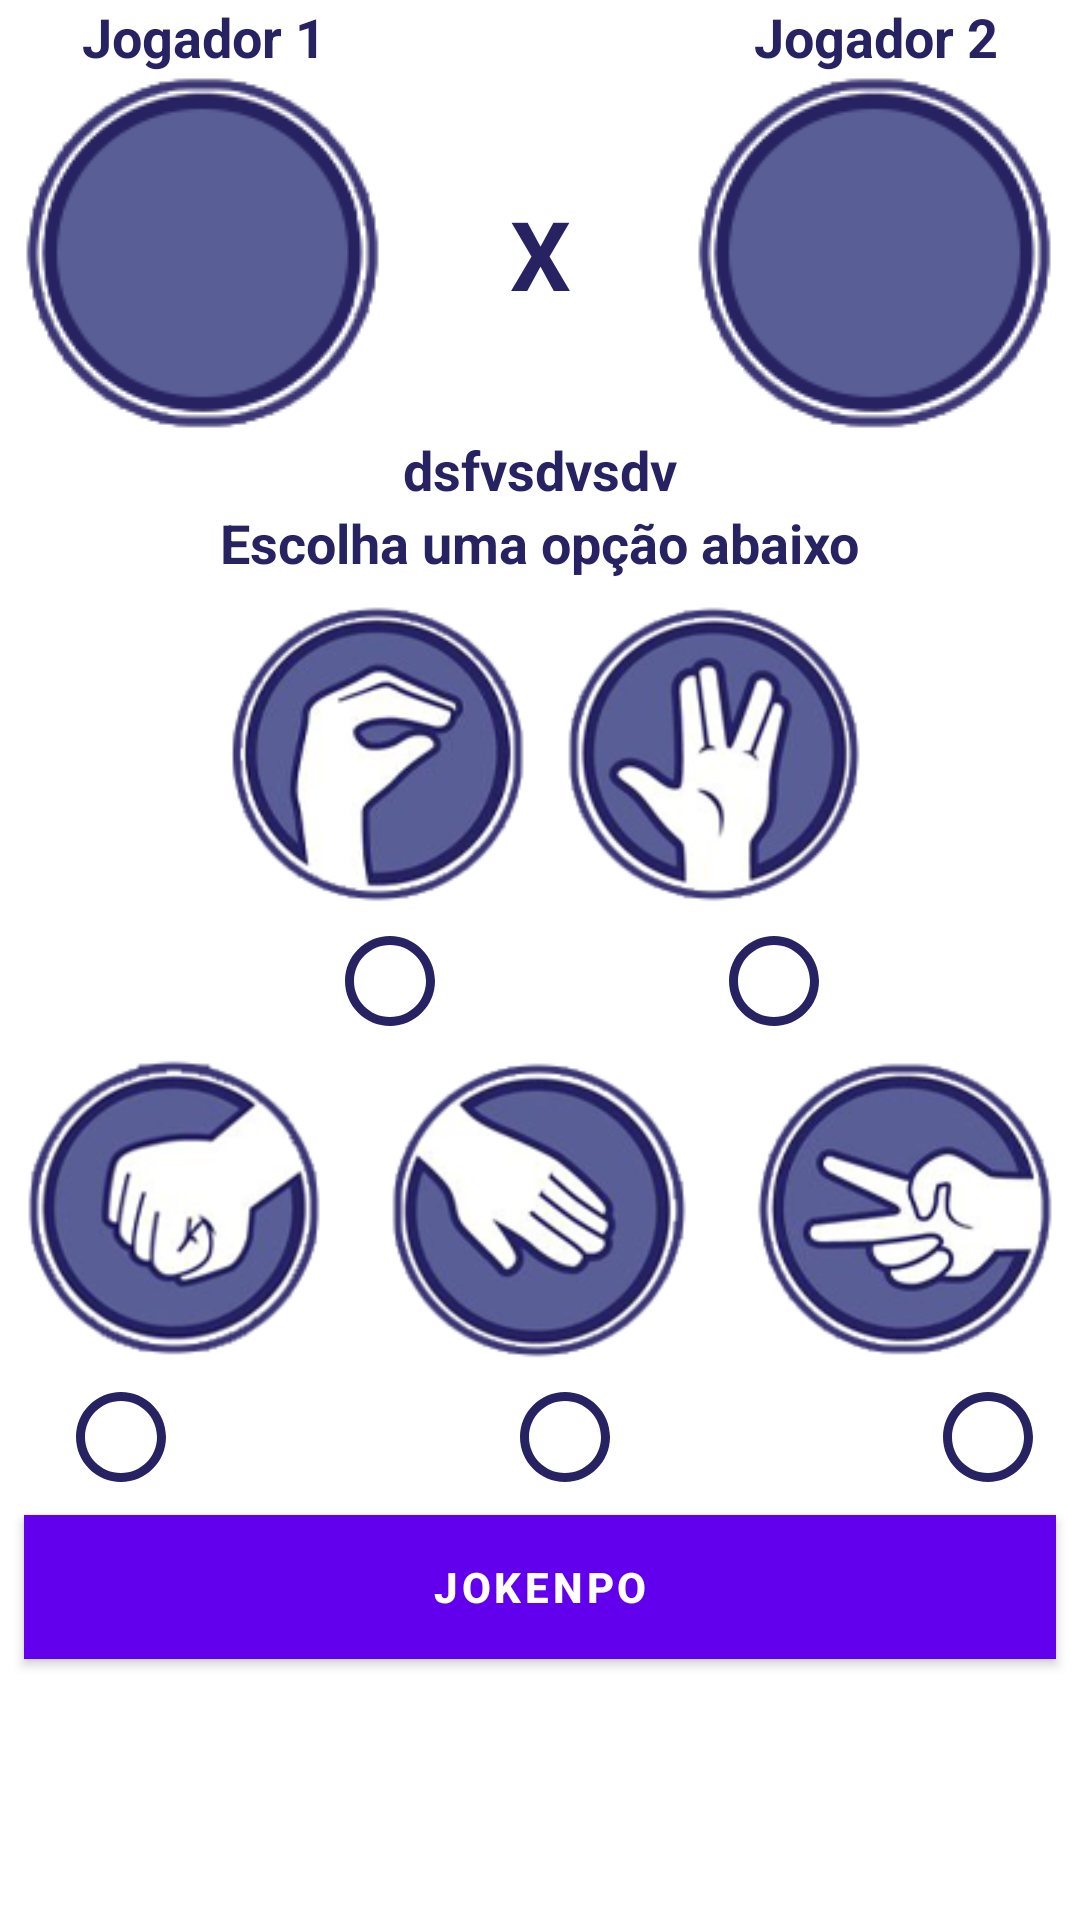

Icon click points for this 1080*1920 phone screenshot, format point (x, y):
lagarto: point (378, 754)
papel: point (539, 1210)
pedra: point (174, 1208)
spock: point (714, 754)
tesoura: point (905, 1209)
